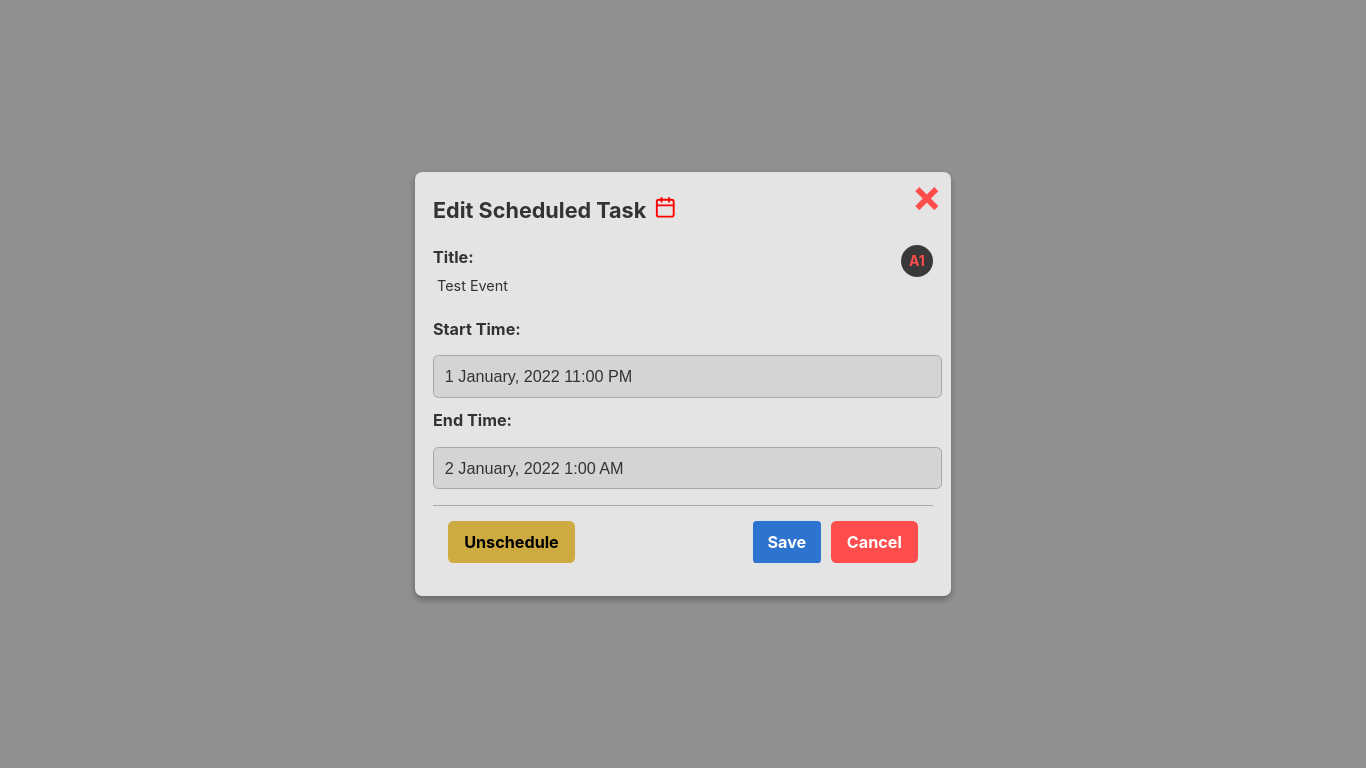
Test case: ScheduleEditModal - Integration Tests › shows error when start and end are on different days
Click the button "Save".
click(787, 542)  # box [753,522,821,563]
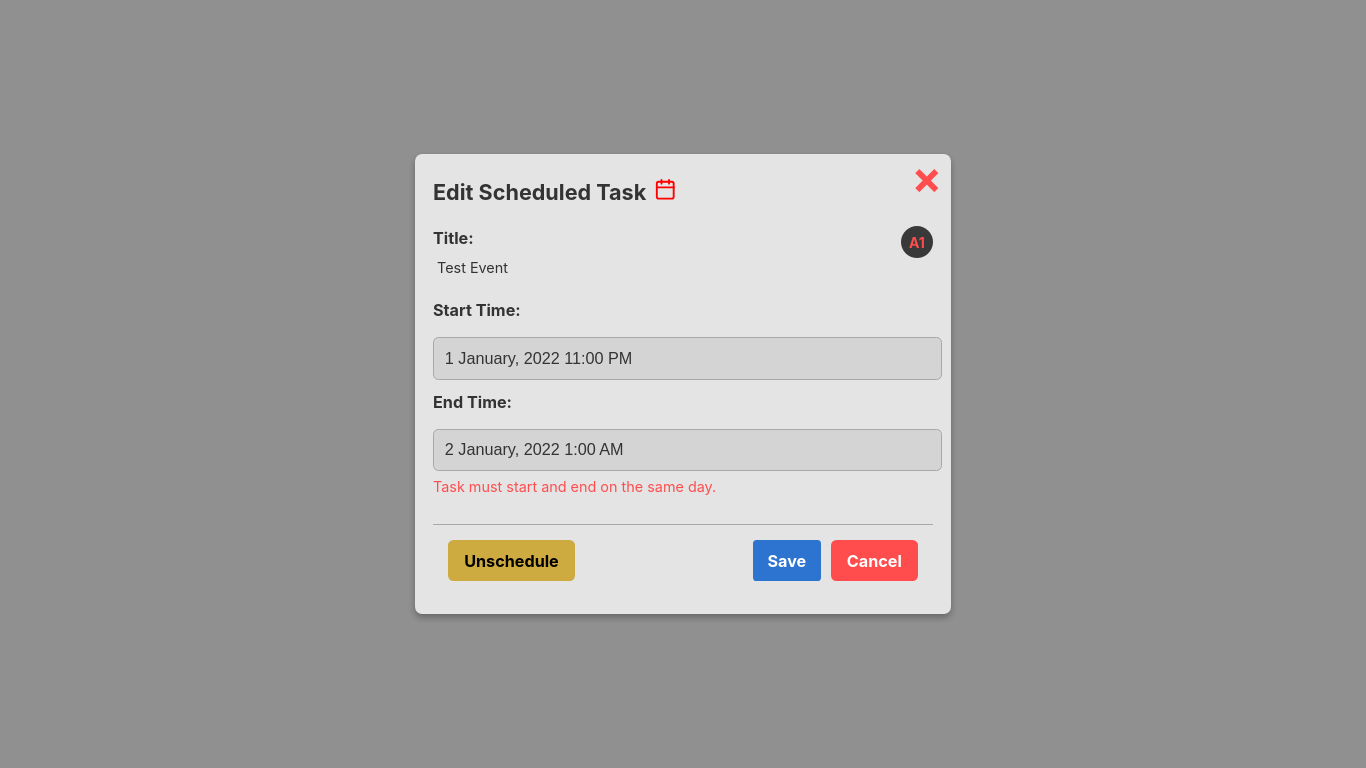
Expected: the text "Task must start and end on the same day." is shown, [433,478,716,495]
